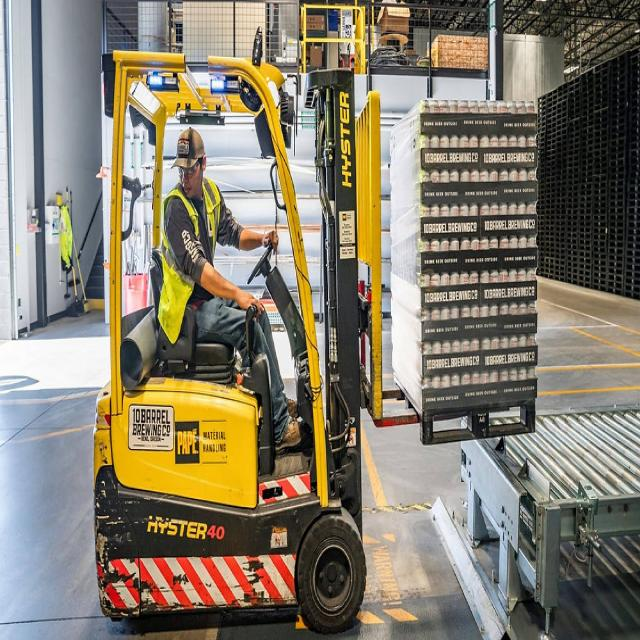Person: (165, 127, 308, 451)
